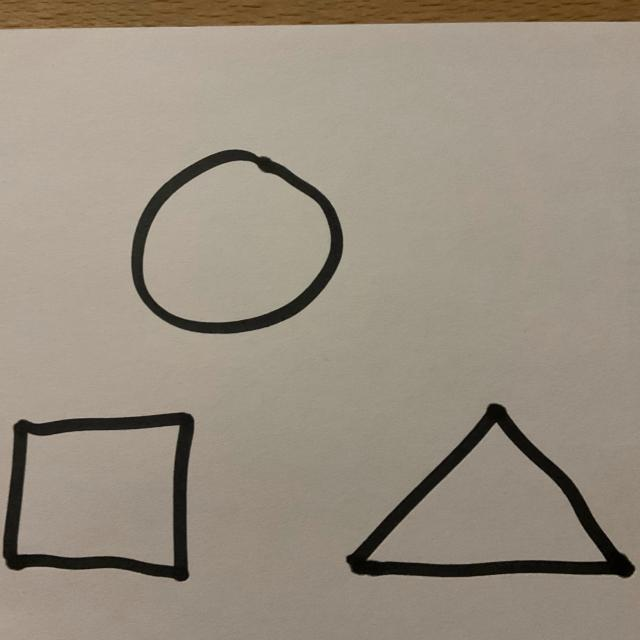Dreieck: (346, 404, 635, 581)
Kreis: (129, 149, 345, 337)
Quadrat: (2, 413, 196, 584)
